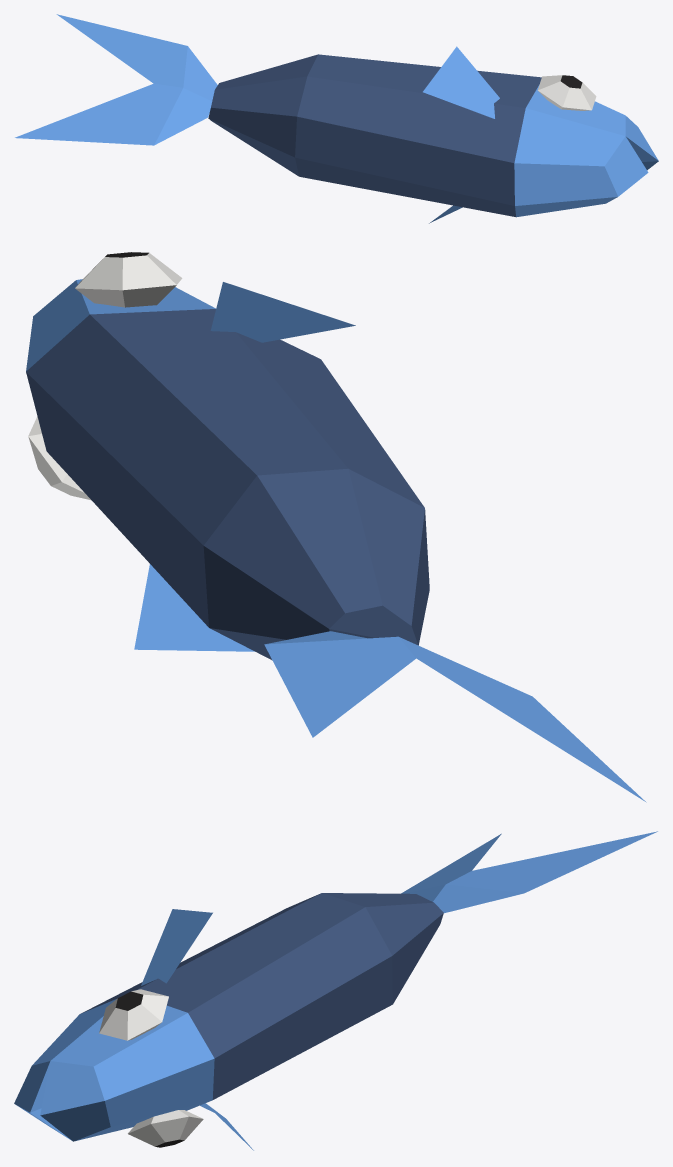
File: Fish_003.fbx
3 views of the same model, one above another, from view 1: azimuth 30°, elevation 25°; view 2: azimuth 150°, elevation 25°; view 3: azimuth 270°, elevation 25° (orthographic). The views are drawn at different scales.
Parts seen in each view (by area): view 1: Fish_1.001; view 2: Fish_1.001; view 3: Fish_1.001.
Boxes of the visible parts, <box> form: Fish_1.001: <box>15,14,658,223</box>; Fish_1.001: <box>26,252,646,802</box>; Fish_1.001: <box>14,831,657,1150</box>.
Size of the model in its own units: 8.1 by 2.96 by 7.75.
